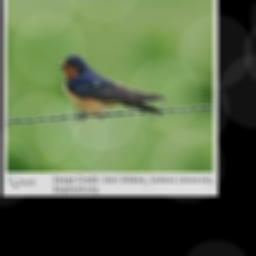Swallow: (58, 54, 166, 115)
